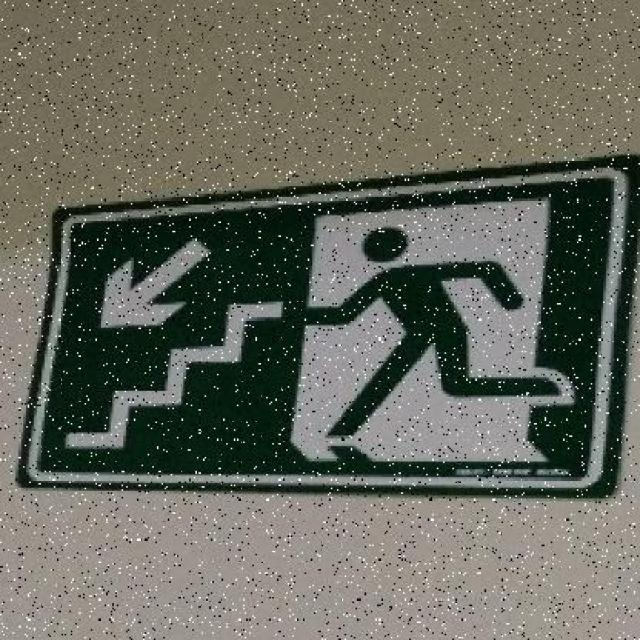emergency_exit: (16, 154, 636, 498)
